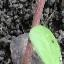Purslane: (23, 25, 64, 64)
